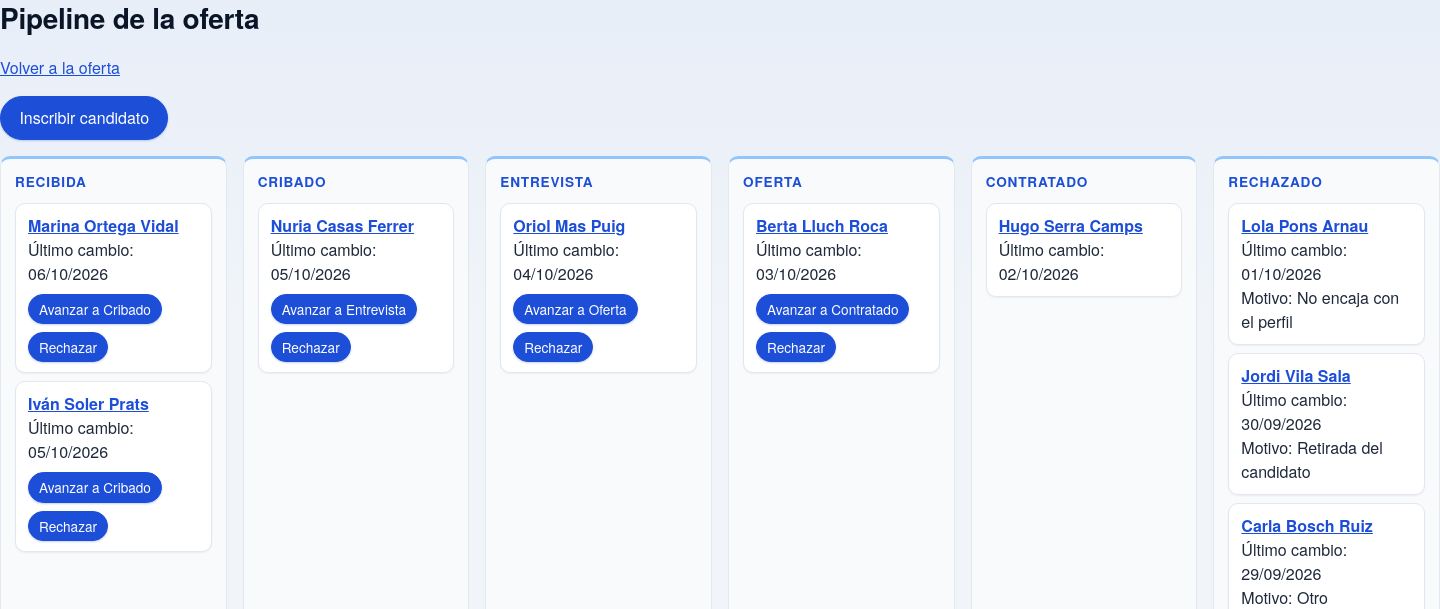
Scenario: PipelineScreen: inscribir (RF-08) › 404 → alerta del panel con el message de la API, con el foco, y recarga
The image size is (1440, 609).
Click the button "Inscribir candidato" at (84, 118), box [0, 96, 168, 140]
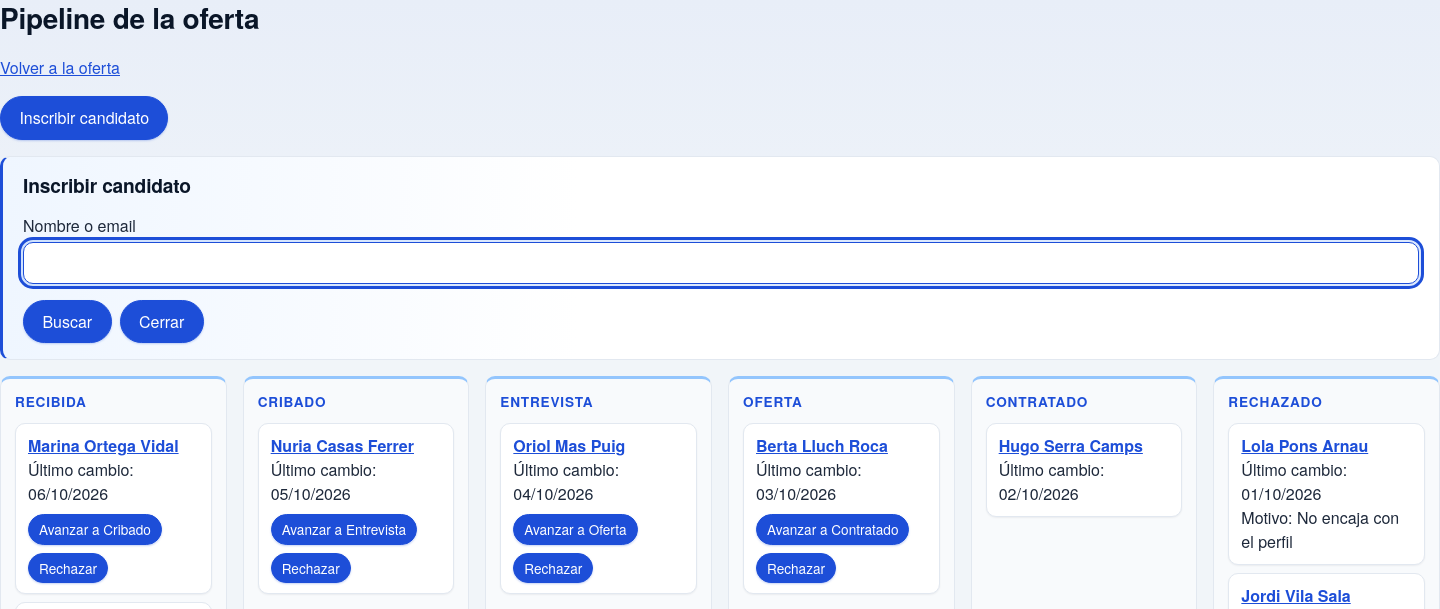
Type "ana" into the search field labelled "Nombre o email" at (721, 263), box [23, 242, 1419, 284]
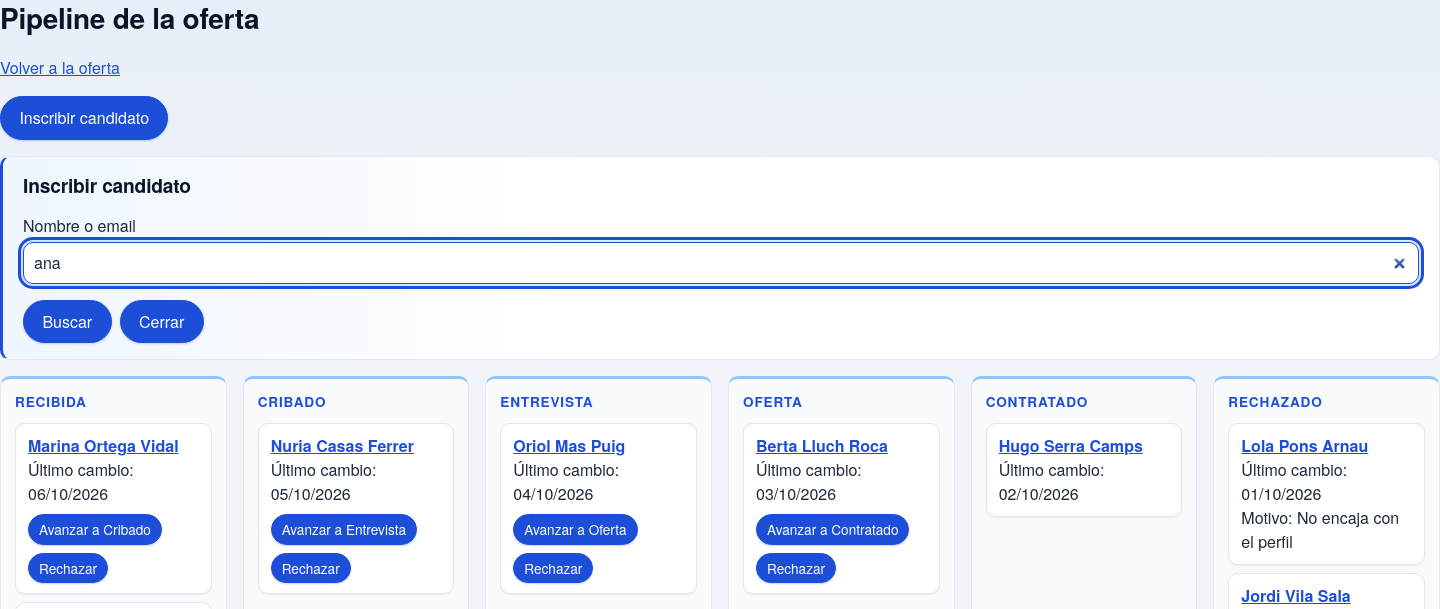
Click the button "Buscar" at (67, 322), box [23, 300, 112, 344]
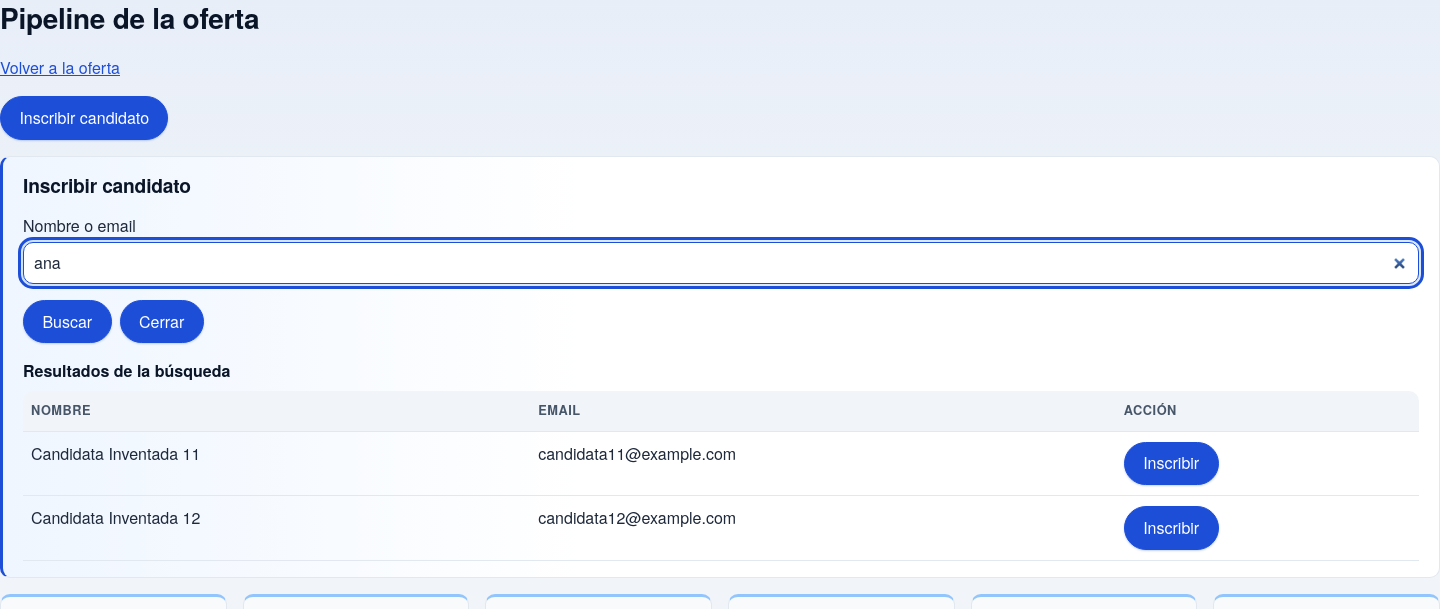
Result: the table "Resultados de la búsqueda" is shown at [23, 360, 1419, 561]
Click the button "Inscribir" in the row of "Candidata Inventada 12" at (1171, 528), box [1124, 506, 1219, 550]
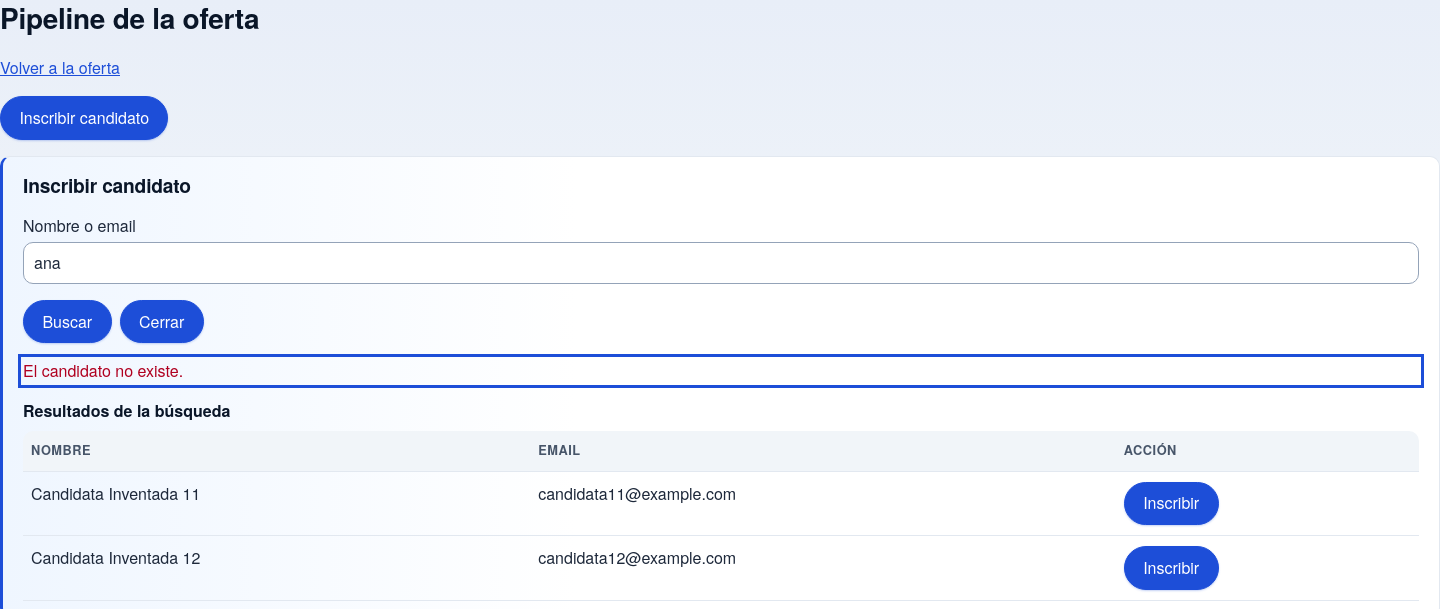
Result: the message reads "El candidato no existe." at [23, 360, 183, 382]
